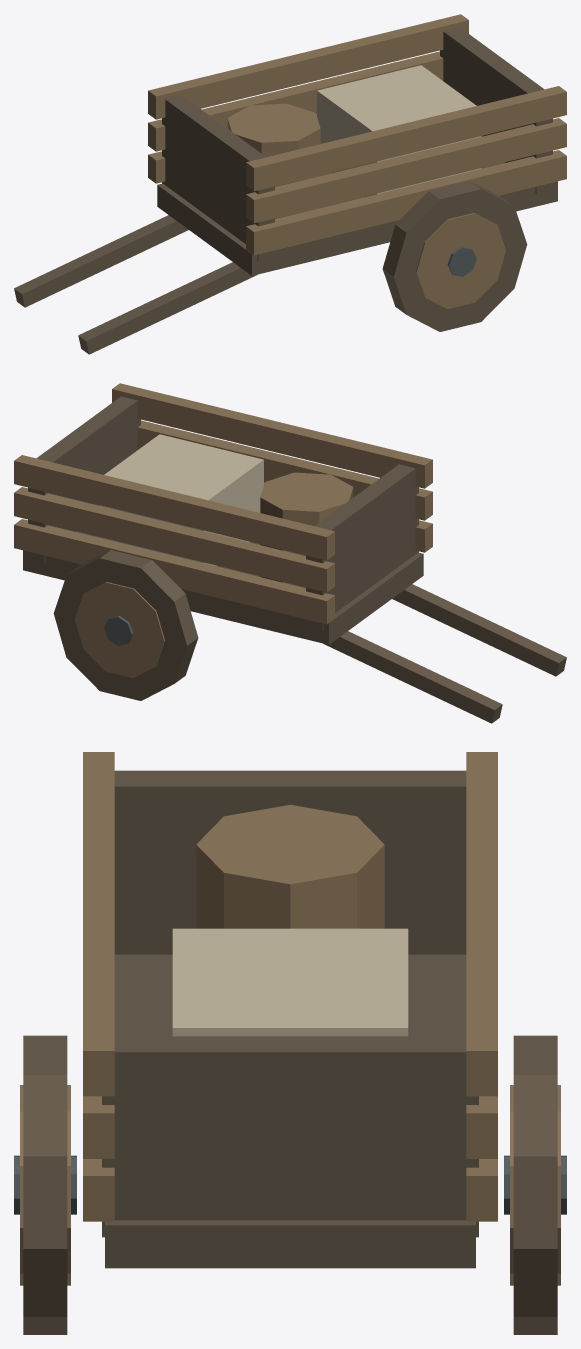
Rendered from Decor_Handcart.fbx.
3 views of the same model, one above another, from view 1: azimuth 30°, elevation 25°; view 2: azimuth 150°, elevation 25°; view 3: azimuth 270°, elevation 25° (orthographic). The views are drawn at different scales.
Visible parts, largest first — view 1: Decor_Handcart; view 2: Decor_Handcart; view 3: Decor_Handcart.
Boxes of the visible parts, <box> form: Decor_Handcart: <box>14,14,566,354</box>; Decor_Handcart: <box>14,383,566,723</box>; Decor_Handcart: <box>14,752,566,1334</box>.
Size of the model in its own units: 3.34 by 1.34 by 1.76.
